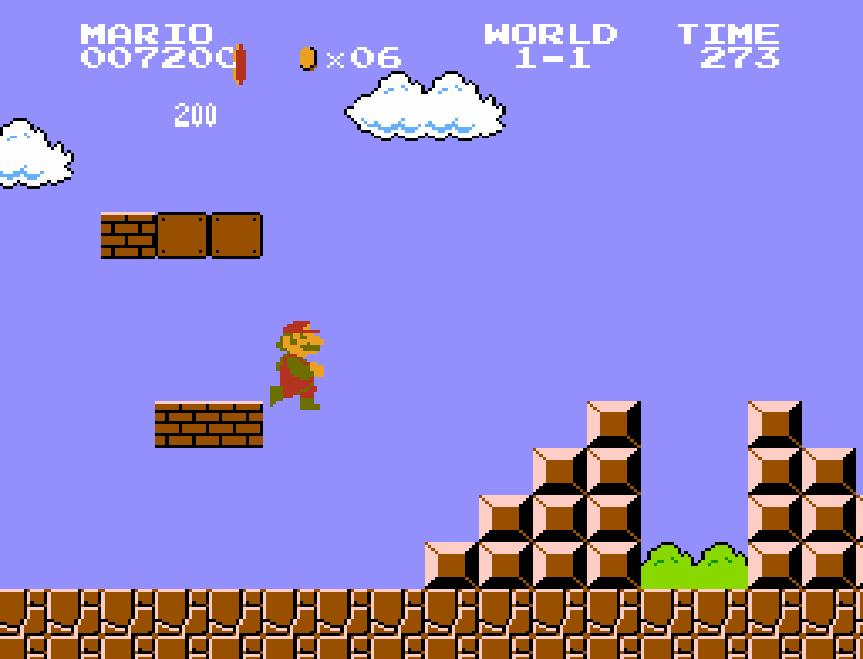big_mario: (267, 313, 325, 411)
